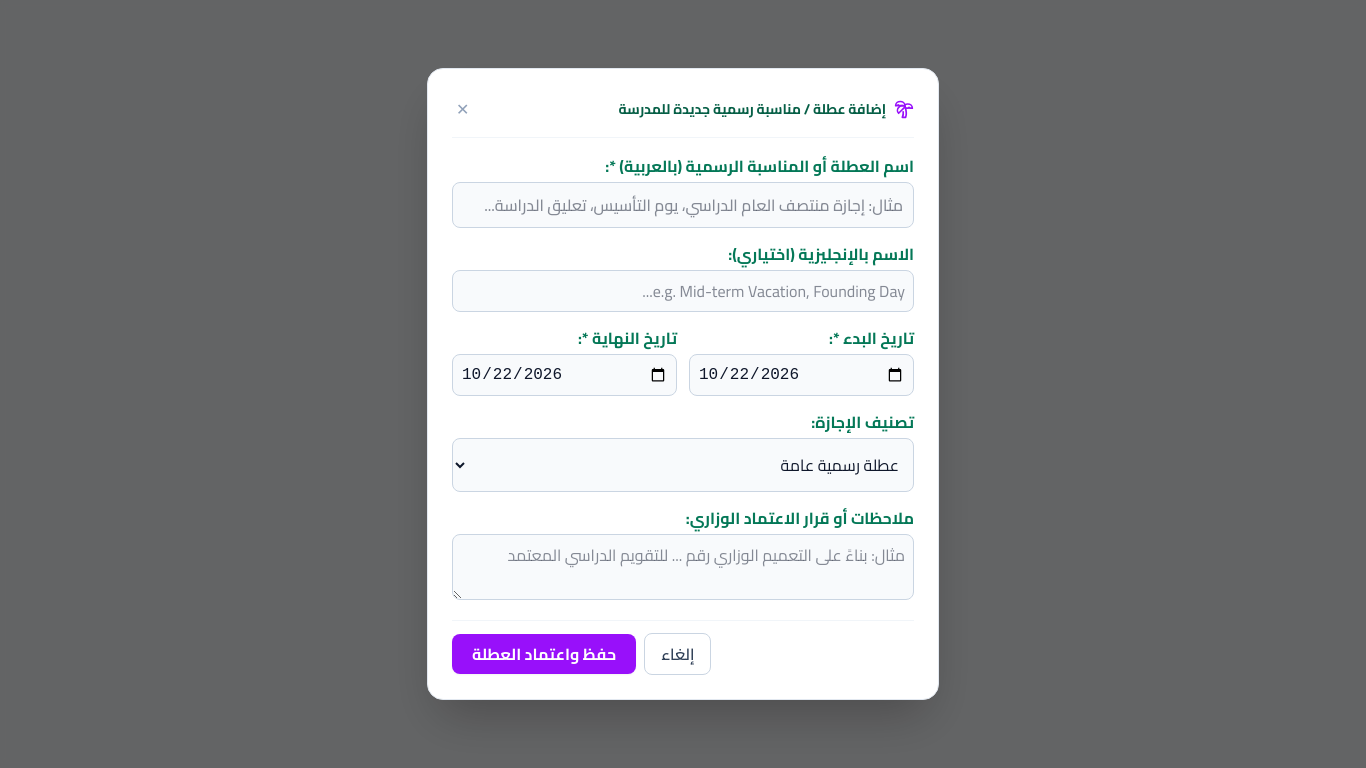
Test: AddHolidayModal › shows an Arabic error and does not save when the name is missing
Click the button "حفظ واعتماد العطلة" at (544, 654), box [452, 634, 636, 674]
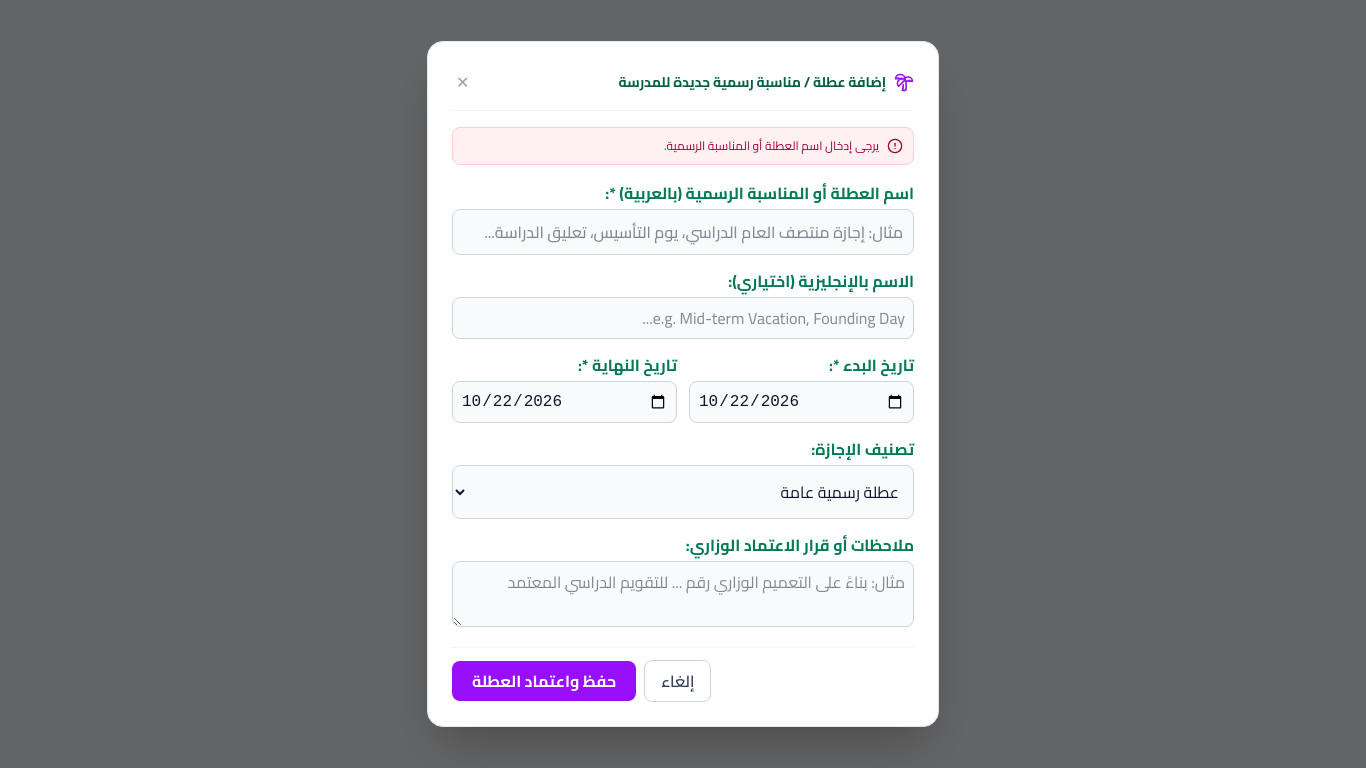
Result: the text "يرجى إدخال اسم العطلة أو المناسبة الرسمية." is shown at [664, 138, 879, 154]
